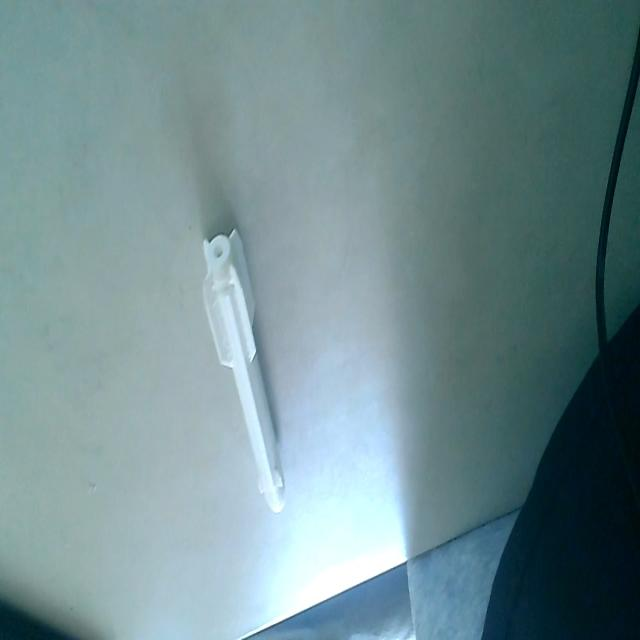Rocket: (198, 223, 289, 518)
